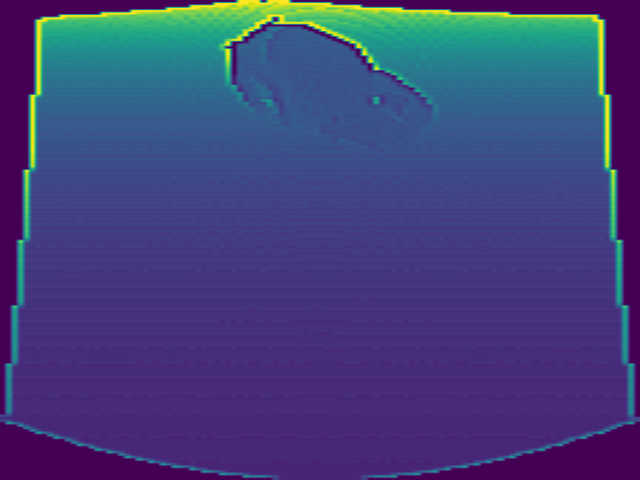car_0027: (227, 17, 438, 147)
